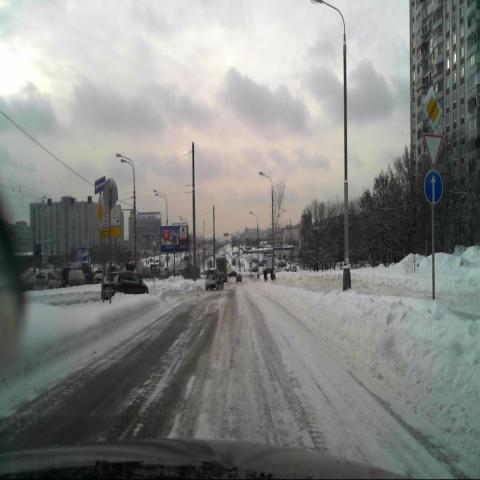4_1_1: (424, 172, 442, 205)
